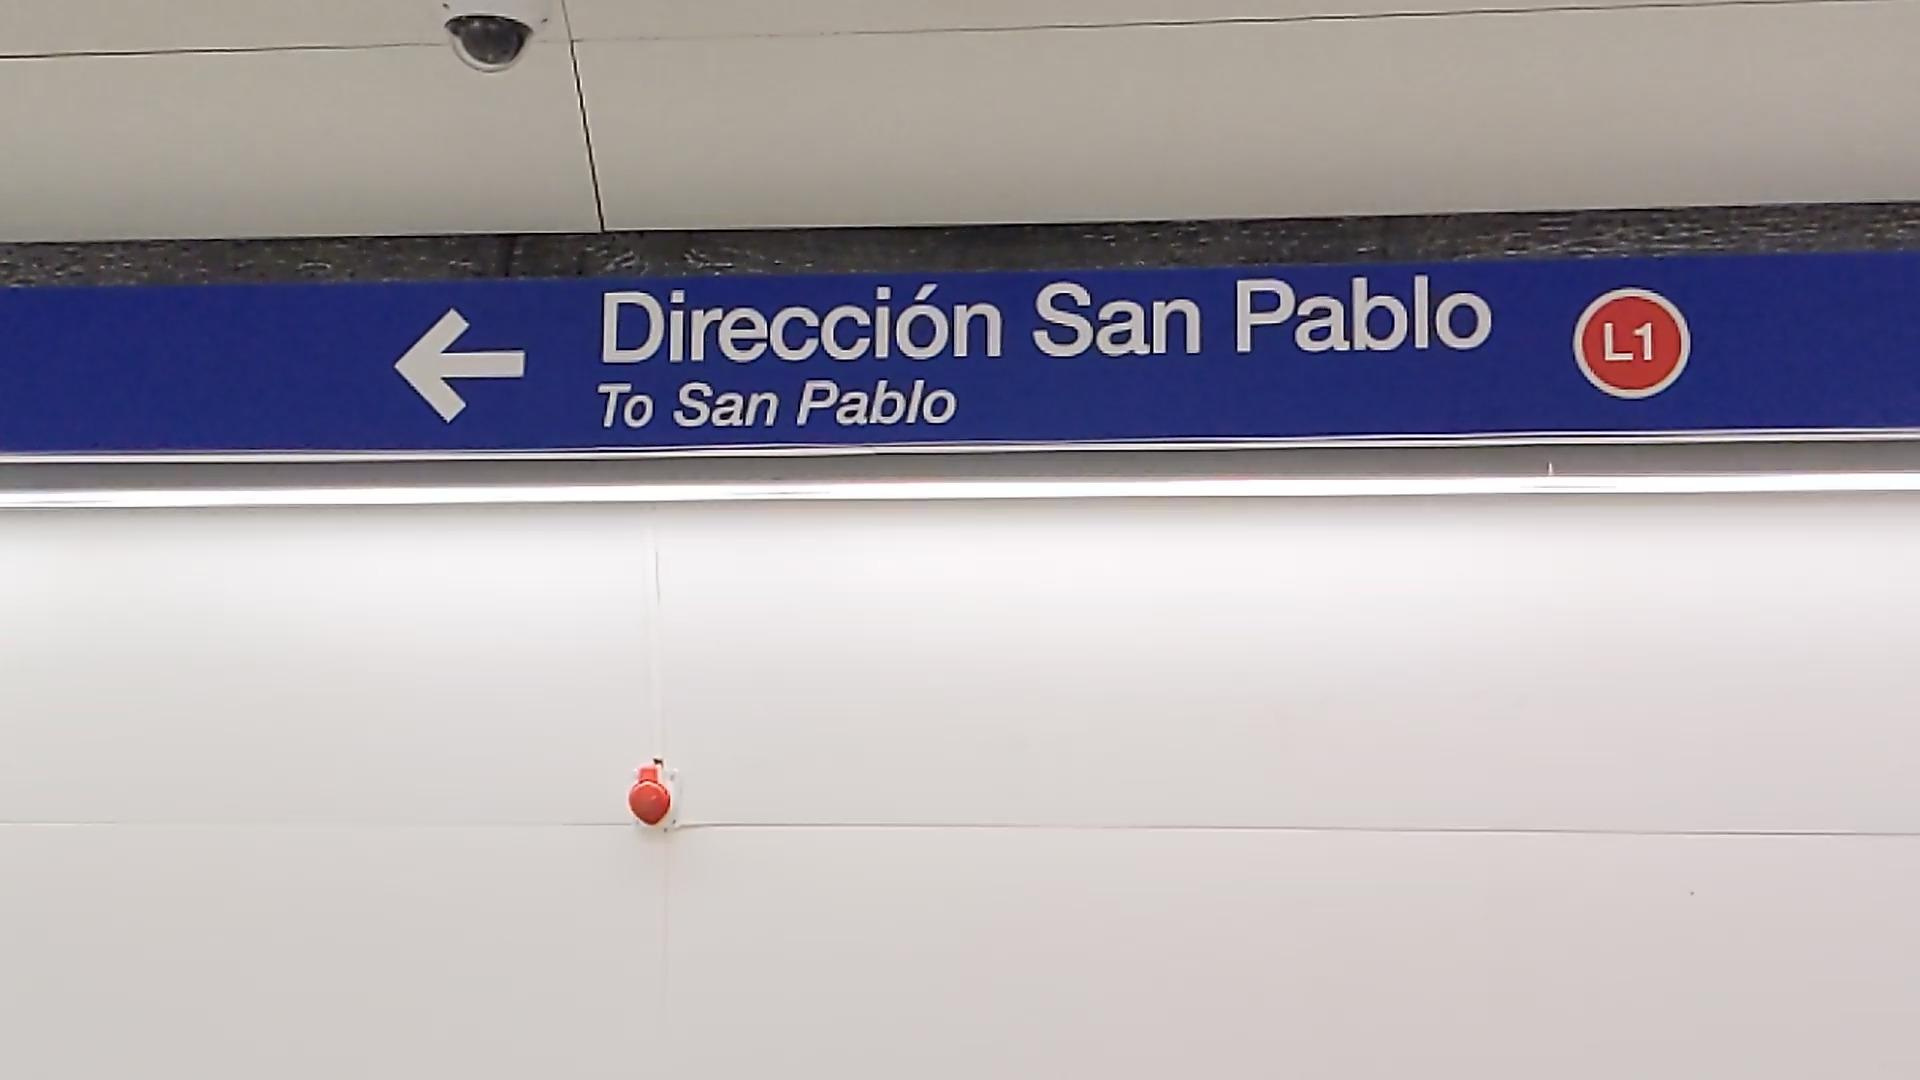left arrow: (392, 307, 529, 423)
